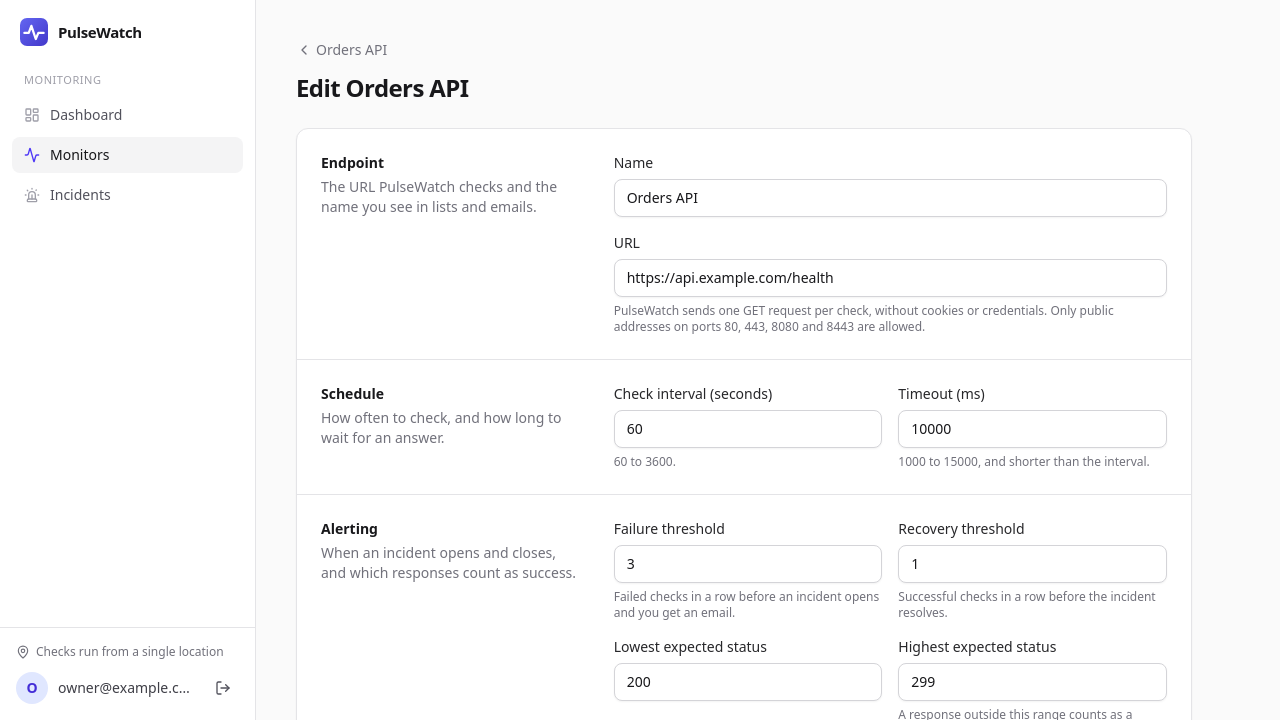
monitor detail › explains a conflicting edit and offers to reload
This screenshot has width=1280, height=720.
Step 1. Type "!" into the field labelled "Name" → (890, 198), box [614, 179, 1167, 217]
(page scrolled)
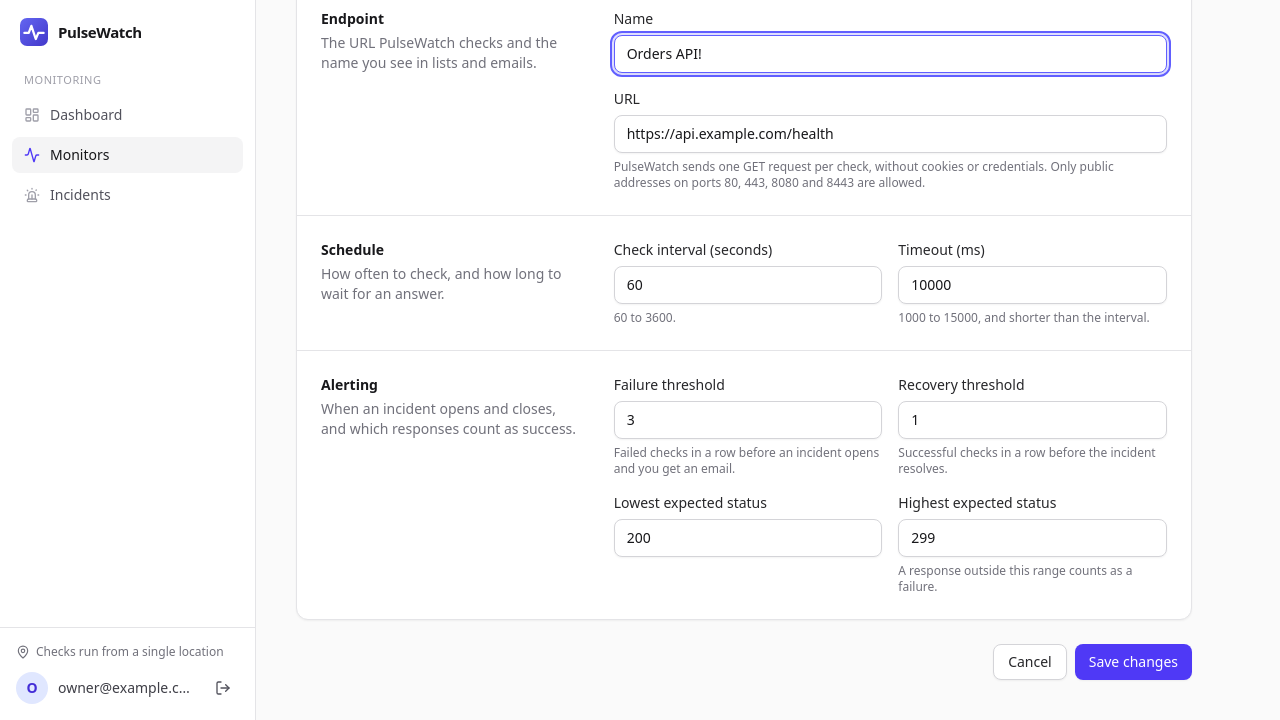
Step 2. Click the button "Save changes" → (1133, 662), box [1075, 644, 1192, 680]
(page scrolled)
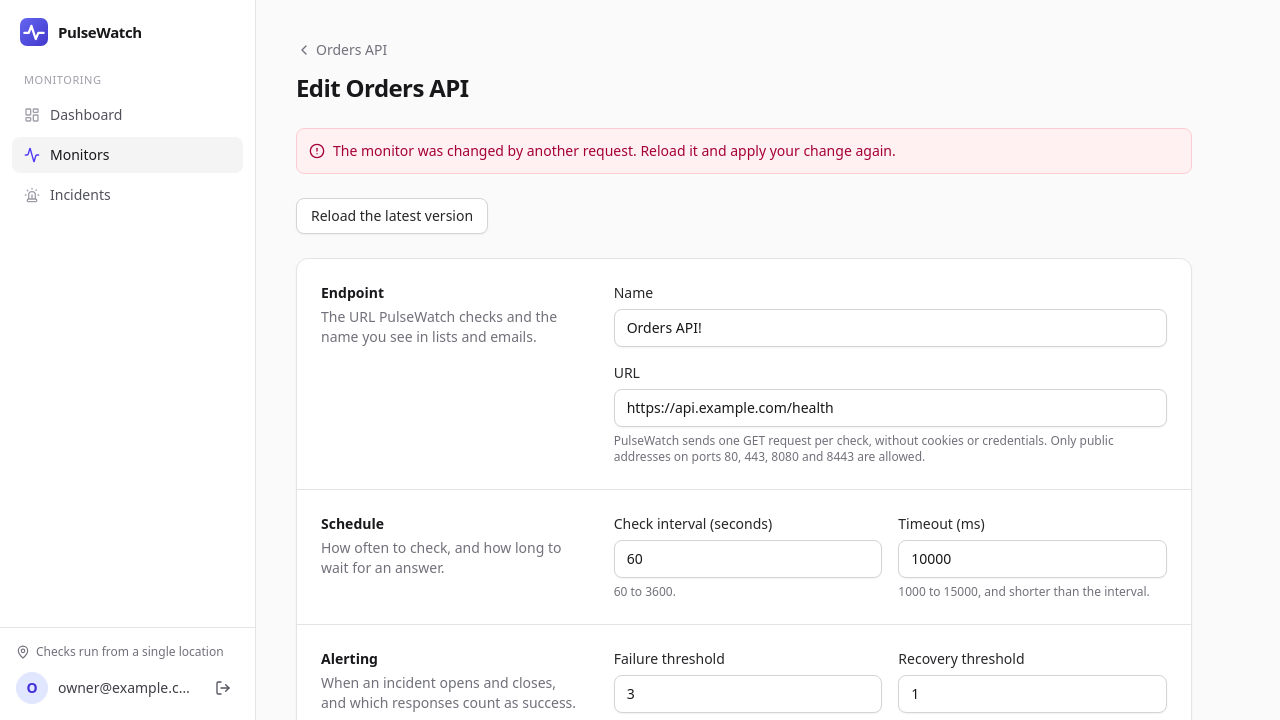
Expected: the message shows "The monitor was changed by another request.", [333, 141, 896, 160]
Expected: the button "Reload the latest version" is shown, [296, 198, 488, 234]
